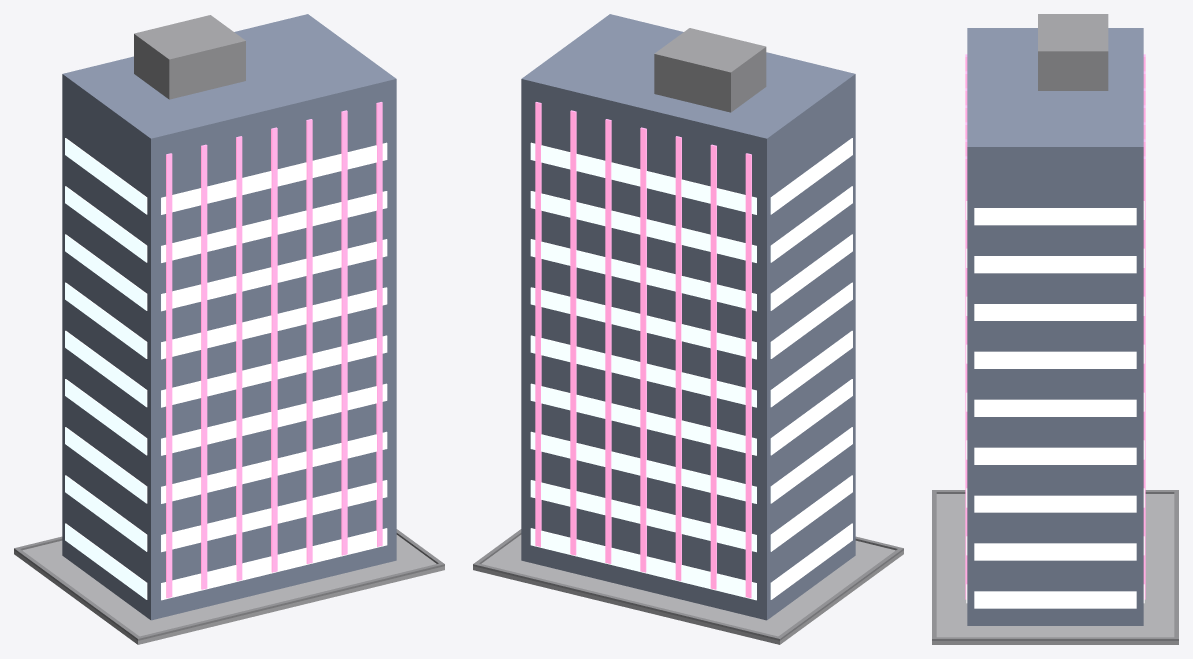
The model's file is bt-commercial-tower-2a.glb.
3 renders of one model, left to right at view 1: azimuth 30°, elevation 25°; view 2: azimuth 150°, elevation 25°; view 3: azimuth 270°, elevation 25°, orthographic.
Parts seen in each view (by area): view 1: body, skirt_slab, roofbox, win_s_0, win_s_1, win_s_7, win_s_4, win_s_2, win_s_3, win_s_5, win_s_6, win_s_8 (+18 smaller); view 2: body, skirt_slab, roofbox, win_n_0, win_n_1, win_n_7, win_n_4, win_n_2, win_n_3, win_n_5, win_n_6, win_n_8 (+18 smaller); view 3: body, skirt_slab, roofbox, win_e_0, win_e_1, win_e_2, win_e_3, win_e_4, win_e_5, win_e_7, win_e_8, win_e_6 (+5 smaller).
Boxes of the visible parts, left/top/right/bottom form: body: left=62, top=14, right=396, bottom=620; skirt_slab: left=14, top=535, right=444, bottom=644; roofbox: left=134, top=15, right=245, bottom=99; win_s_0: left=161, top=528, right=387, bottom=600; win_s_1: left=161, top=480, right=387, bottom=552; win_s_7: left=161, top=191, right=387, bottom=262; win_s_4: left=161, top=335, right=387, bottom=407; win_s_2: left=161, top=431, right=387, bottom=503; win_s_3: left=161, top=383, right=387, bottom=455; win_s_5: left=161, top=287, right=387, bottom=359; win_s_6: left=161, top=239, right=387, bottom=311; win_s_8: left=161, top=142, right=387, bottom=214; body: left=521, top=14, right=855, bottom=620; skirt_slab: left=473, top=535, right=903, bottom=644; roofbox: left=654, top=28, right=766, bottom=112; win_n_0: left=530, top=528, right=756, bottom=600; win_n_1: left=530, top=480, right=756, bottom=552; win_n_7: left=530, top=191, right=756, bottom=262; win_n_4: left=530, top=335, right=756, bottom=407; win_n_2: left=530, top=431, right=756, bottom=503; win_n_3: left=530, top=383, right=756, bottom=455; win_n_5: left=530, top=287, right=756, bottom=359; win_n_6: left=530, top=239, right=756, bottom=311; win_n_8: left=530, top=142, right=756, bottom=214; body: left=967, top=28, right=1143, bottom=625; skirt_slab: left=932, top=494, right=1178, bottom=644; roofbox: left=1038, top=14, right=1108, bottom=90; win_e_0: left=974, top=591, right=1136, bottom=608; win_e_1: left=974, top=543, right=1136, bottom=560; win_e_2: left=974, top=495, right=1136, bottom=512; win_e_3: left=974, top=447, right=1136, bottom=464; win_e_4: left=974, top=399, right=1136, bottom=416; win_e_5: left=974, top=351, right=1136, bottom=368; win_e_7: left=974, top=256, right=1136, bottom=273; win_e_8: left=974, top=208, right=1136, bottom=225; win_e_6: left=974, top=304, right=1136, bottom=320.
Size of the model in its own units: 20 by 32.75 by 14.
